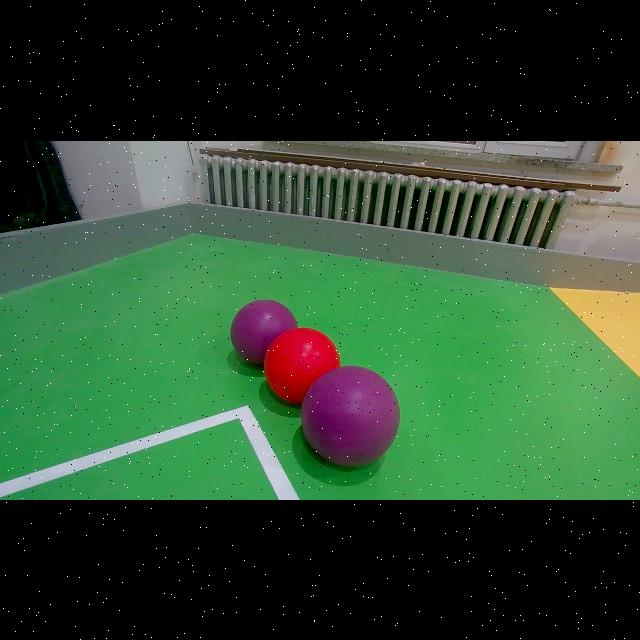P: (302, 366, 401, 468), (231, 298, 297, 374)
R: (264, 328, 340, 404)
